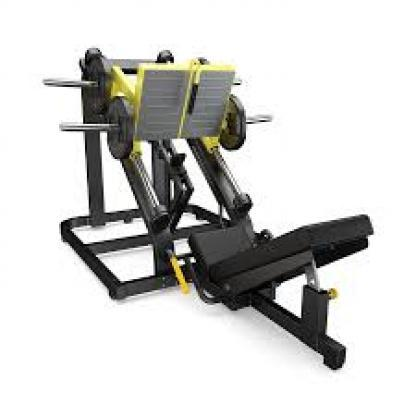leg press: (30, 42, 383, 381)
